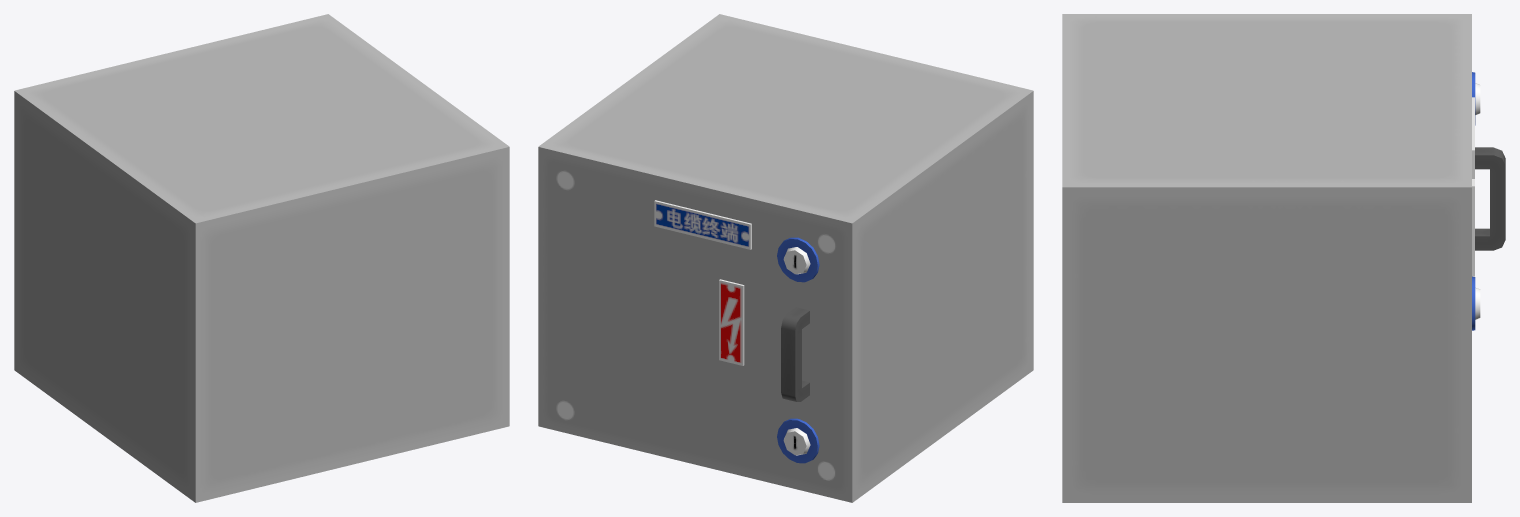
File: Pfb_ElectricControlBox__3.fbx
3 views of the same model, side by side, from view 1: azimuth 30°, elevation 25°; view 2: azimuth 150°, elevation 25°; view 3: azimuth 270°, elevation 25° (orthographic). The views are drawn at different scales.
Visible parts, largest first — view 1: MAT_ElectricControlBox; view 2: MAT_ElectricControlBox; view 3: MAT_ElectricControlBox.
Part boxes in pixels (bbox=[...]): MAT_ElectricControlBox: bbox=[14, 14, 509, 502]; MAT_ElectricControlBox: bbox=[538, 14, 1033, 502]; MAT_ElectricControlBox: bbox=[1062, 14, 1505, 502].
Bounding box in the file's own units: 1 × 0.85 × 1.08.
1 material, 1 textured.
